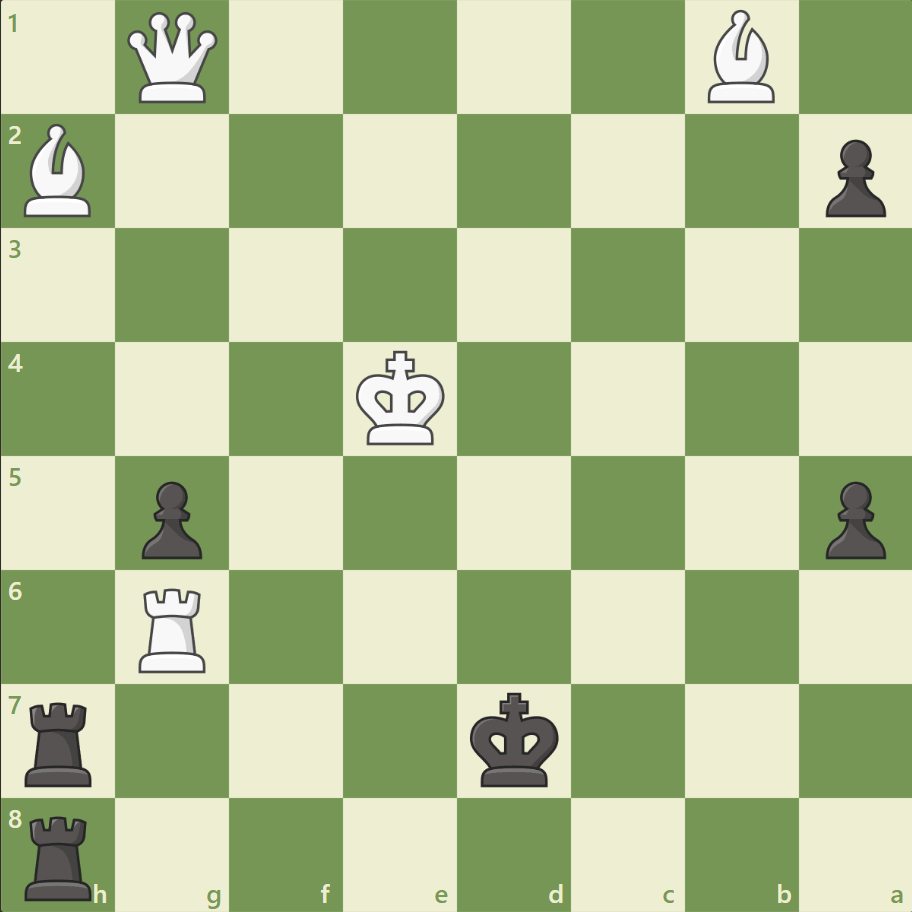B: (698, 6, 782, 109), (17, 120, 101, 222)
K: (351, 344, 451, 452)
Q: (124, 9, 223, 108)
R: (133, 579, 215, 676)
k: (465, 685, 565, 793)
p: (133, 473, 208, 564), (815, 473, 889, 564), (815, 132, 889, 223)
r: (19, 806, 102, 904), (19, 693, 102, 790)
